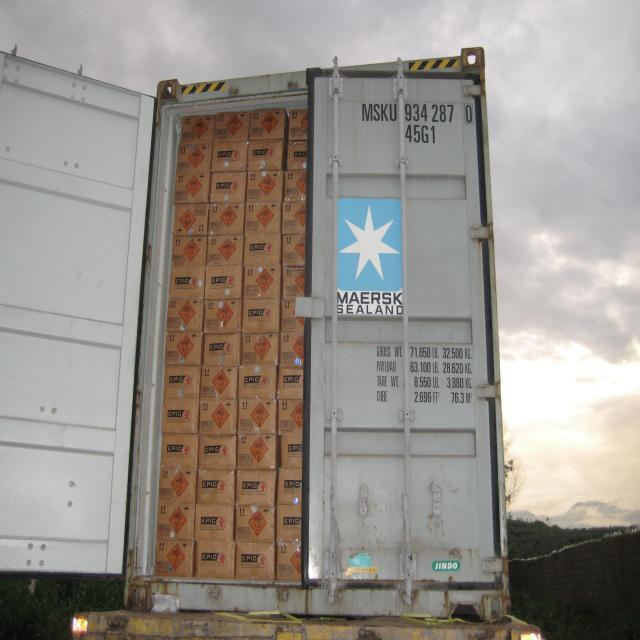container_number_h: (362, 99, 478, 146)
